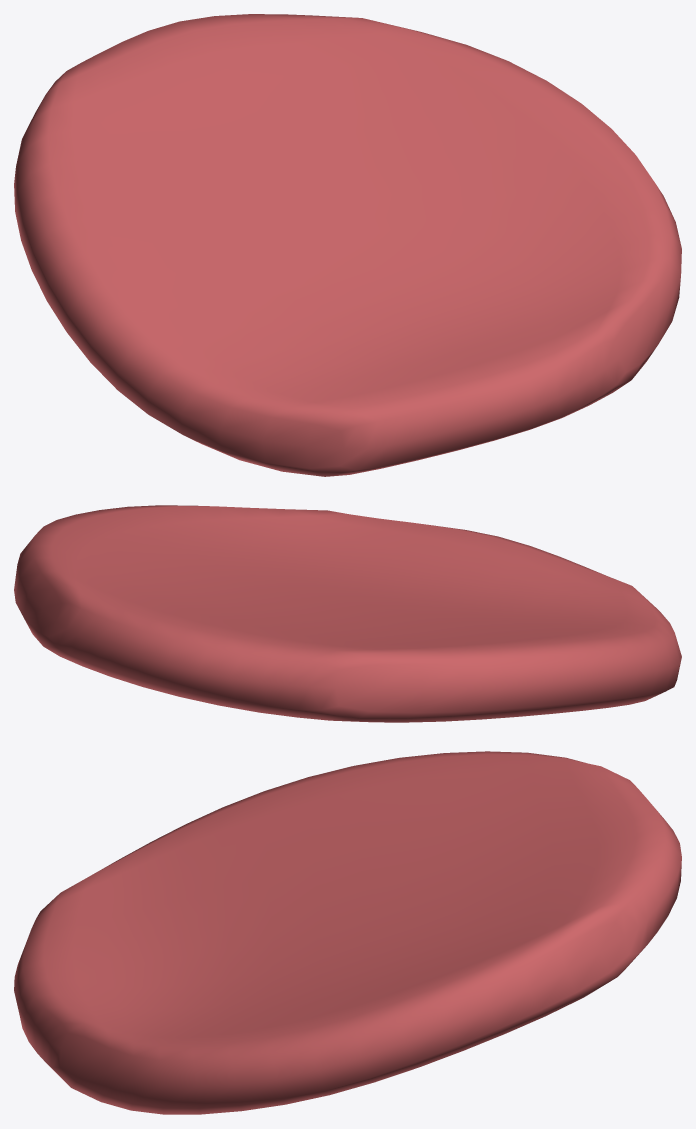
The picture shows the model from 3 angles, top to bottom: view 1: azimuth 30°, elevation 25°; view 2: azimuth 150°, elevation 25°; view 3: azimuth 270°, elevation 25°; orthographic projection.
Parts seen in each view (by area): view 1: 右侧髌前皮下囊; view 2: 右侧髌前皮下囊; view 3: 右侧髌前皮下囊.
Boxes of the visible parts, box(x1,y1,x2,y2) form: 右侧髌前皮下囊: box(14, 14, 681, 476); 右侧髌前皮下囊: box(14, 505, 681, 722); 右侧髌前皮下囊: box(14, 751, 681, 1114).
Size of the model in its own units: 0.0266 by 0.00866 by 0.0268.
